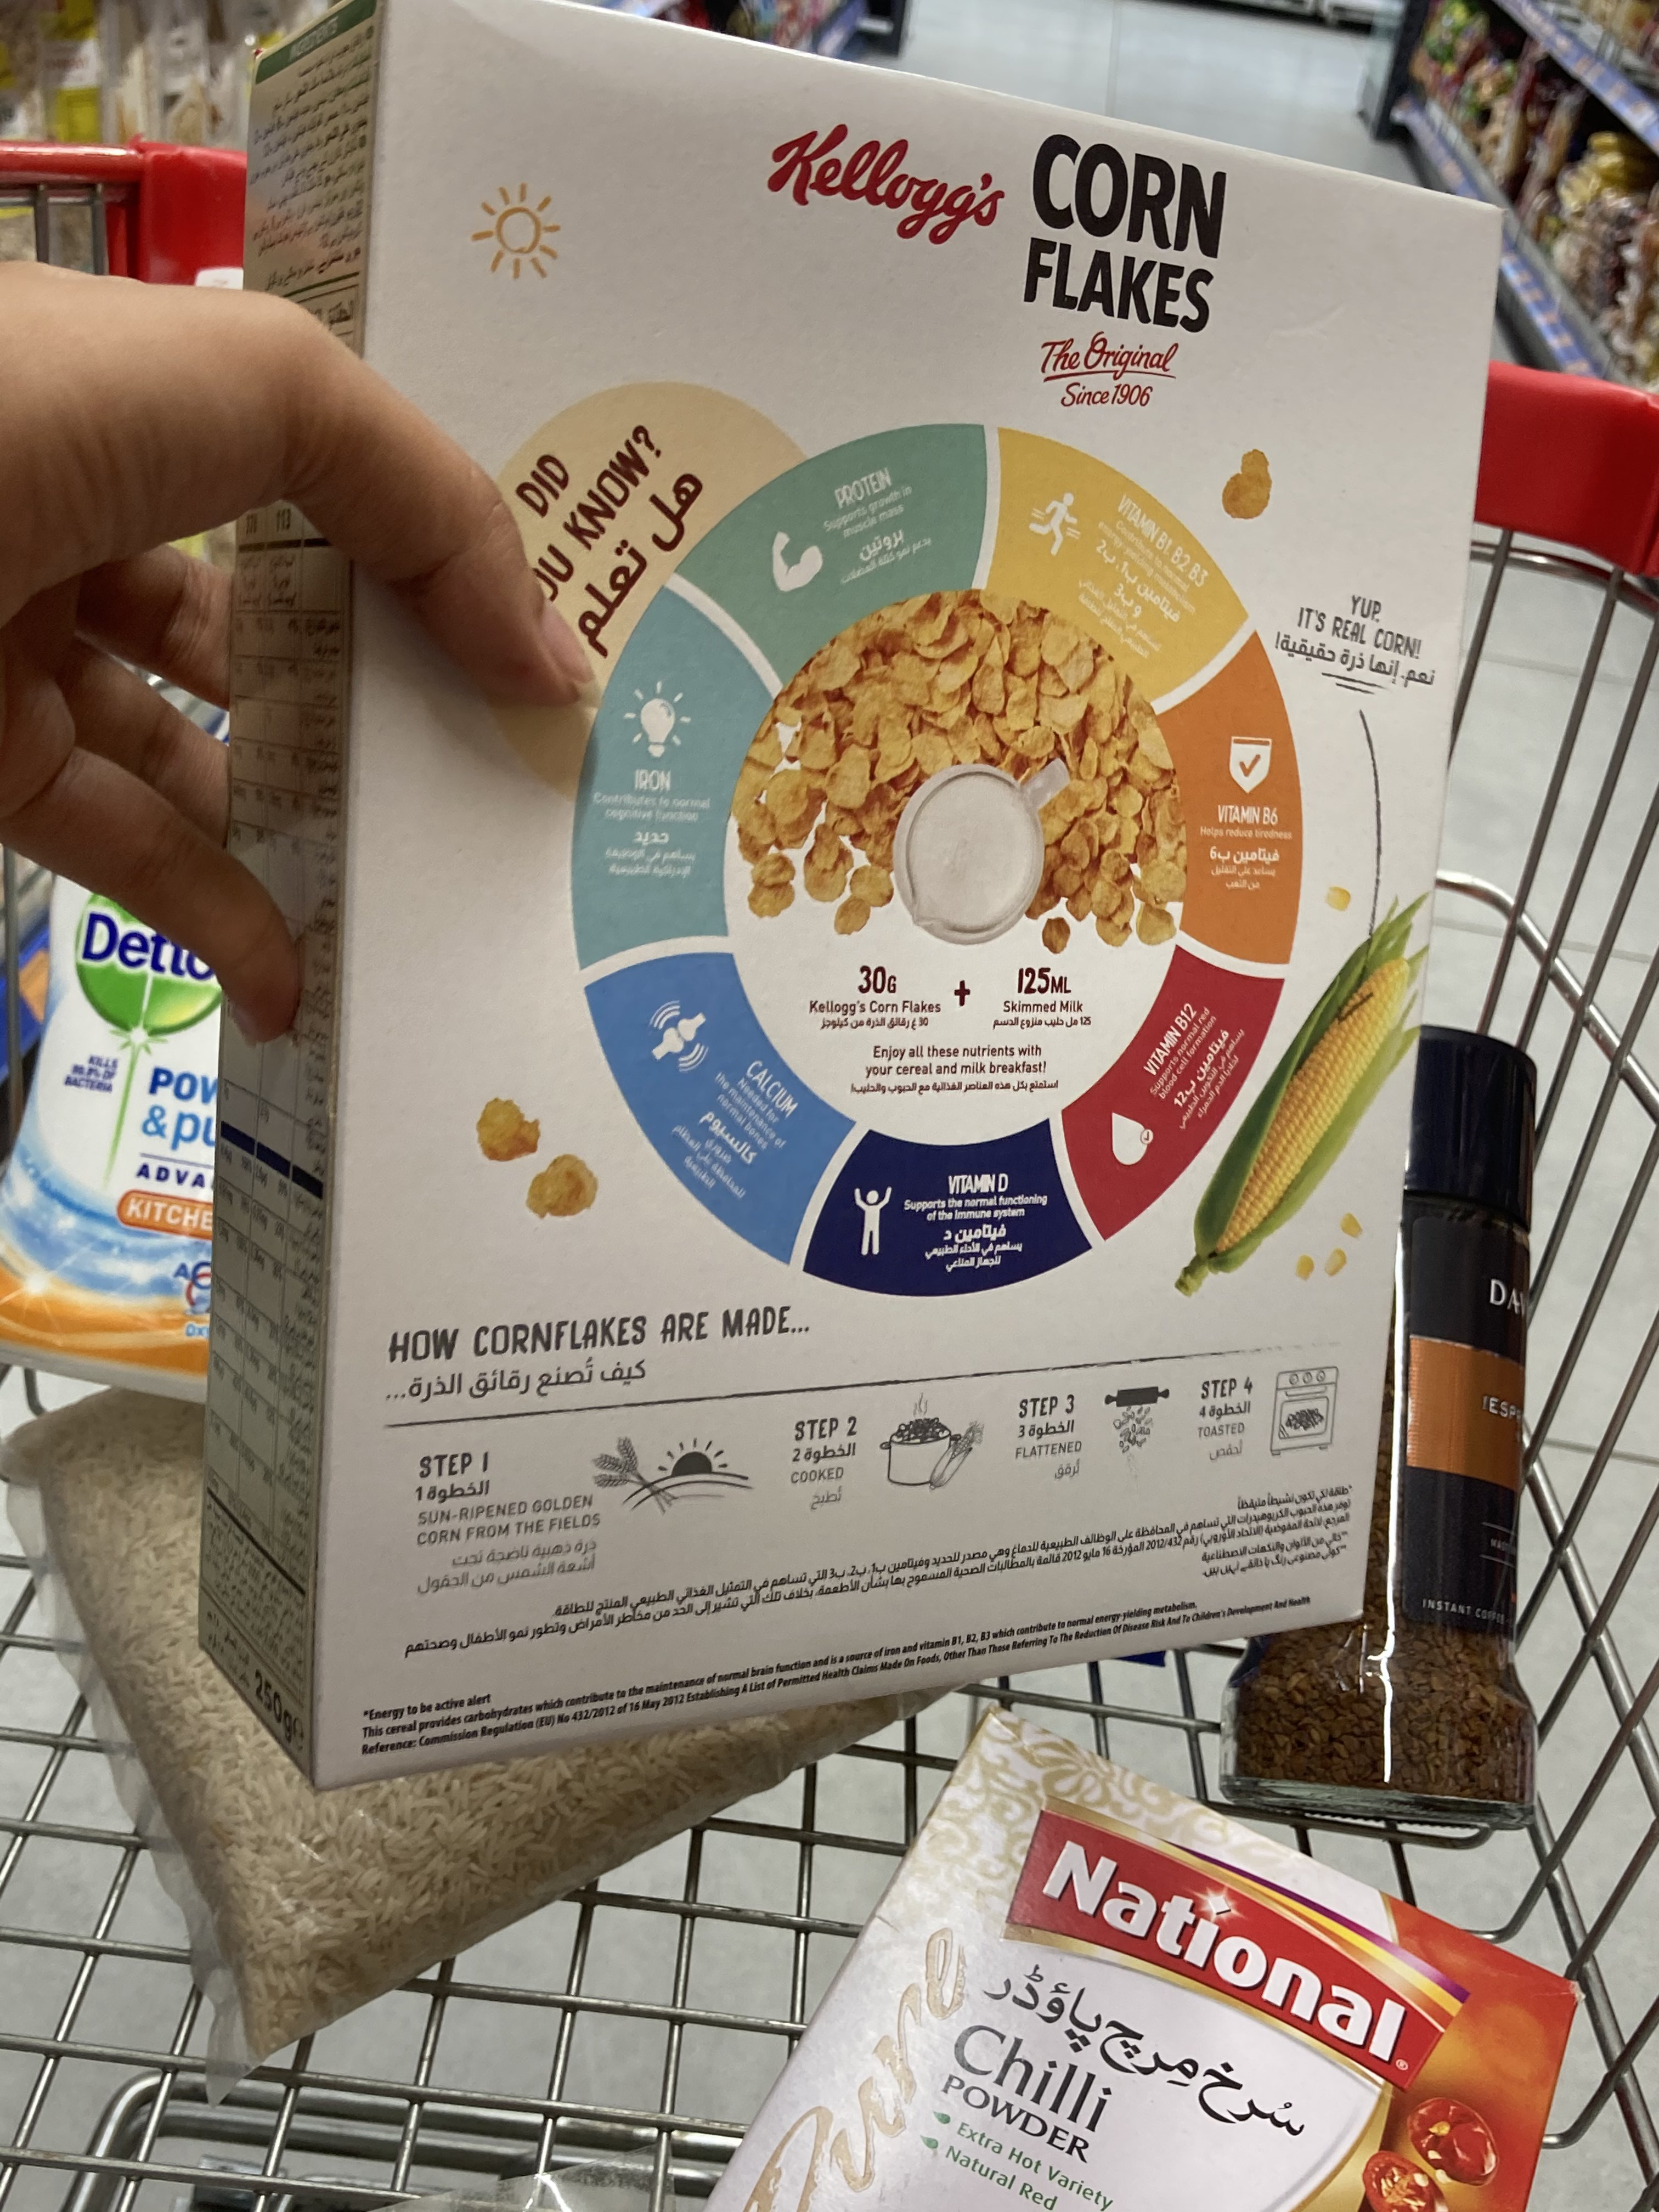Kellogg's Corn Flakes: (197, 9, 1509, 1792)
